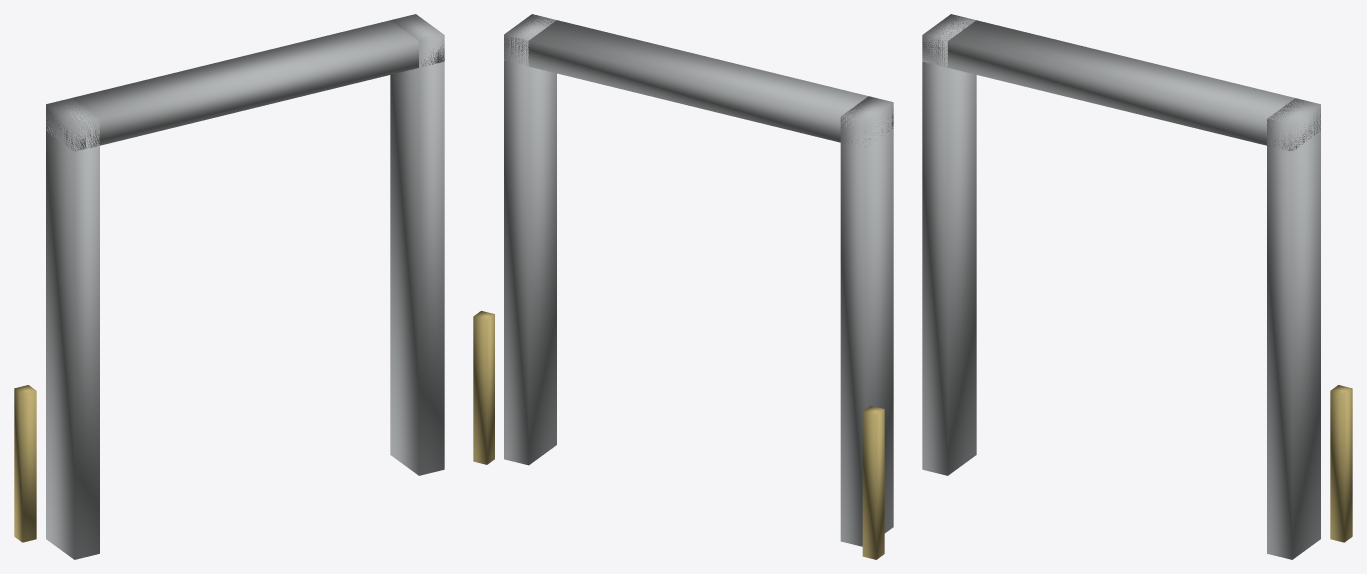
Rendered from atrium_edge_industrial_w180_h220_d28.glb.
3 renders of one model, left to right at view 1: azimuth 30°, elevation 25°; view 2: azimuth 150°, elevation 25°; view 3: azimuth 330°, elevation 25°, orthographic. The views are drawn at different scales.
Visible parts, largest first — view 1: world; view 2: world; view 3: world.
Boxes of the visible parts, x1=… form: world: x1=14, y1=14, x2=444, y2=559; world: x1=473, y1=14, x2=893, y2=559; world: x1=922, y1=14, x2=1352, y2=559.
Bounding box in the file's own units: 2.33 × 2.34 × 0.38.
